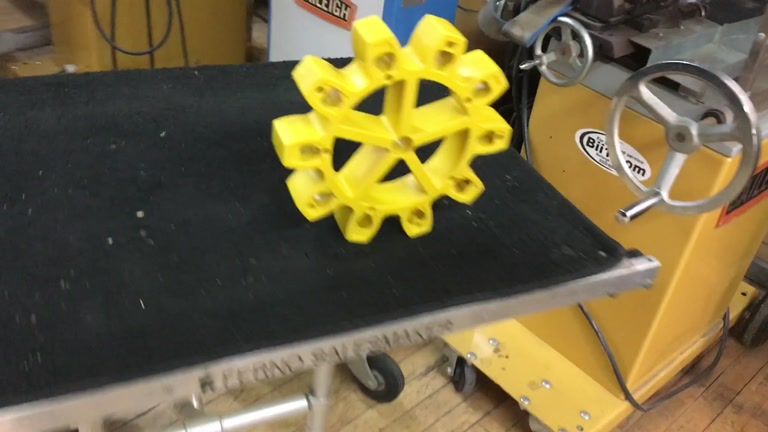gear: (270, 13, 512, 246)
